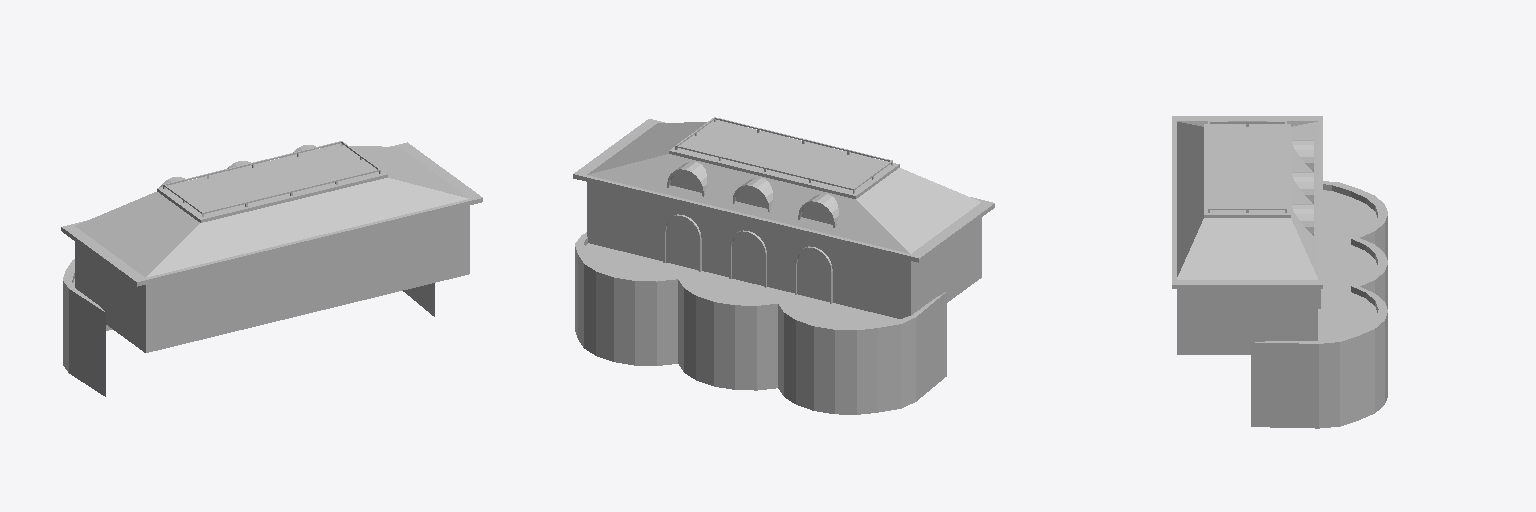
The model's file is Right Square Building.obj.
The picture shows the model from 3 angles: view 1: azimuth 30°, elevation 25°; view 2: azimuth 150°, elevation 25°; view 3: azimuth 270°, elevation 25°; orthographic projection.
Visible parts, largest first — view 1: Building, Building Front_Balcony; view 2: Building, Building Front_Balcony, Building Left_Door, Building Center_Door, Building Right_Door, Building Right_Window, Building Center_Window, Building Left_Window; view 3: Building, Building Front_Balcony.
Boxes of the visible parts, box(x1,y1,x2,y2) form: Building: box(61, 142, 482, 352); Building Front_Balcony: box(63, 259, 434, 396); Building: box(573, 119, 994, 318); Building Front_Balcony: box(575, 232, 946, 414); Building Left_Door: box(663, 214, 701, 271); Building Center_Door: box(729, 230, 766, 287); Building Right_Door: box(795, 246, 832, 303); Building Right_Window: box(798, 194, 838, 227); Building Center_Window: box(733, 178, 772, 212); Building Left_Window: box(667, 162, 706, 196); Building: box(1172, 116, 1322, 354); Building Front_Balcony: box(1251, 181, 1387, 428).
Size of the model in its own units: 20.88 by 10.48 by 11.31.